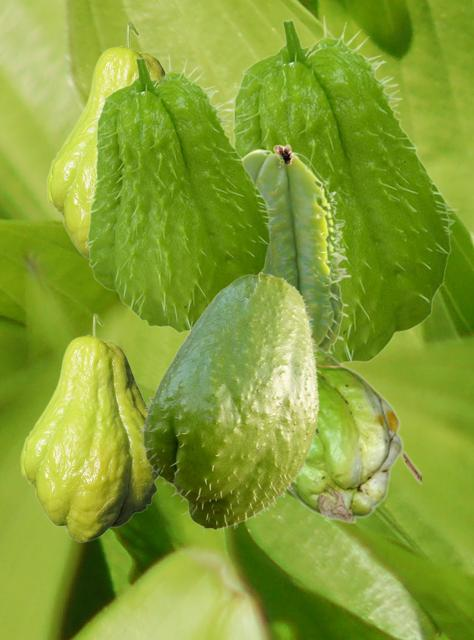sayote: (224, 14, 457, 364), (81, 53, 275, 332), (137, 272, 320, 532), (20, 313, 157, 541), (46, 21, 165, 258), (288, 344, 420, 523), (243, 143, 350, 354)
